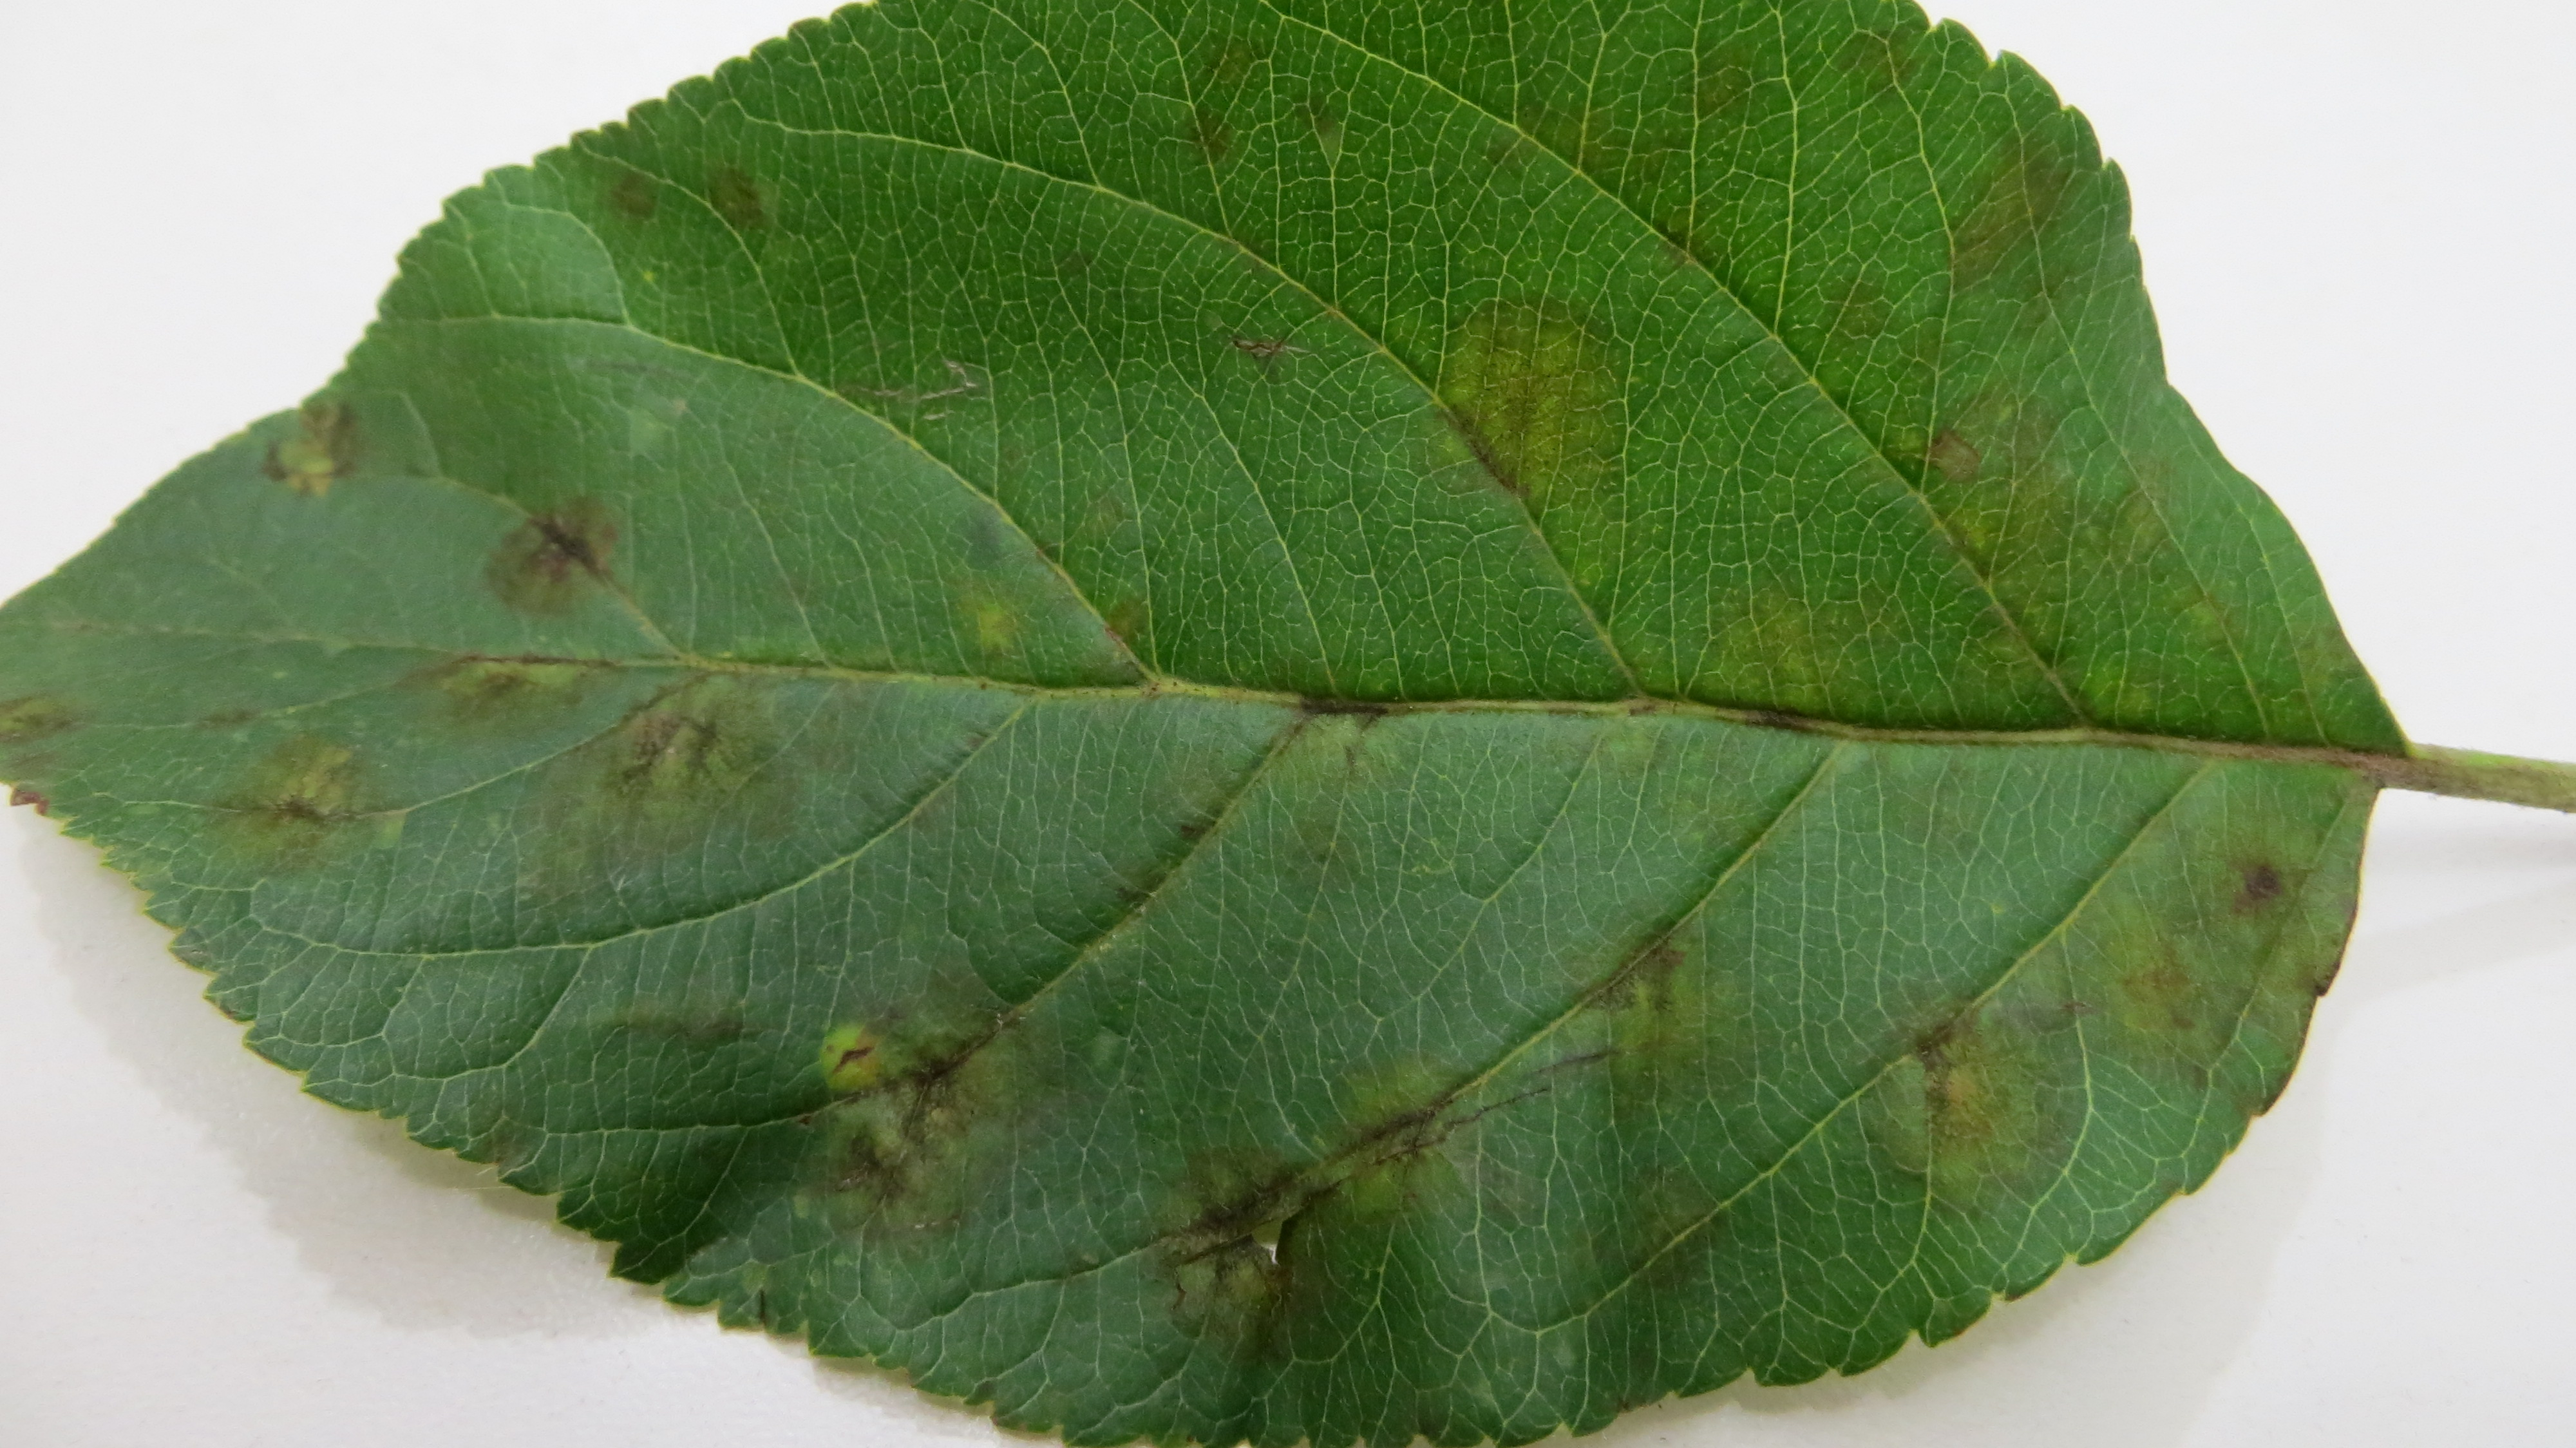sarna: (1856, 975, 2079, 1220), (1152, 1129, 1353, 1391), (1428, 287, 1645, 526), (1548, 880, 1769, 1105), (1318, 1028, 1514, 1230), (1897, 384, 2072, 589), (212, 717, 402, 889), (1693, 570, 1882, 740), (625, 644, 787, 841), (410, 625, 633, 758), (814, 1094, 968, 1273), (2100, 901, 2245, 1074), (471, 474, 625, 618), (913, 959, 1035, 1126), (513, 752, 653, 897), (1601, 1159, 1729, 1317), (1932, 127, 2056, 287), (1274, 635, 1408, 768), (0, 673, 127, 813), (2196, 841, 2321, 952), (2089, 432, 2180, 582), (2052, 639, 2171, 752), (264, 389, 372, 513), (1085, 579, 1177, 696), (807, 998, 904, 1101), (950, 570, 1042, 676), (702, 142, 775, 250), (1157, 774, 1238, 853), (1284, 816, 1357, 894)
